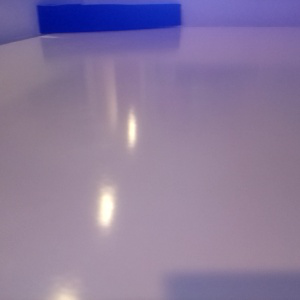zone: (37, 3, 182, 35)
